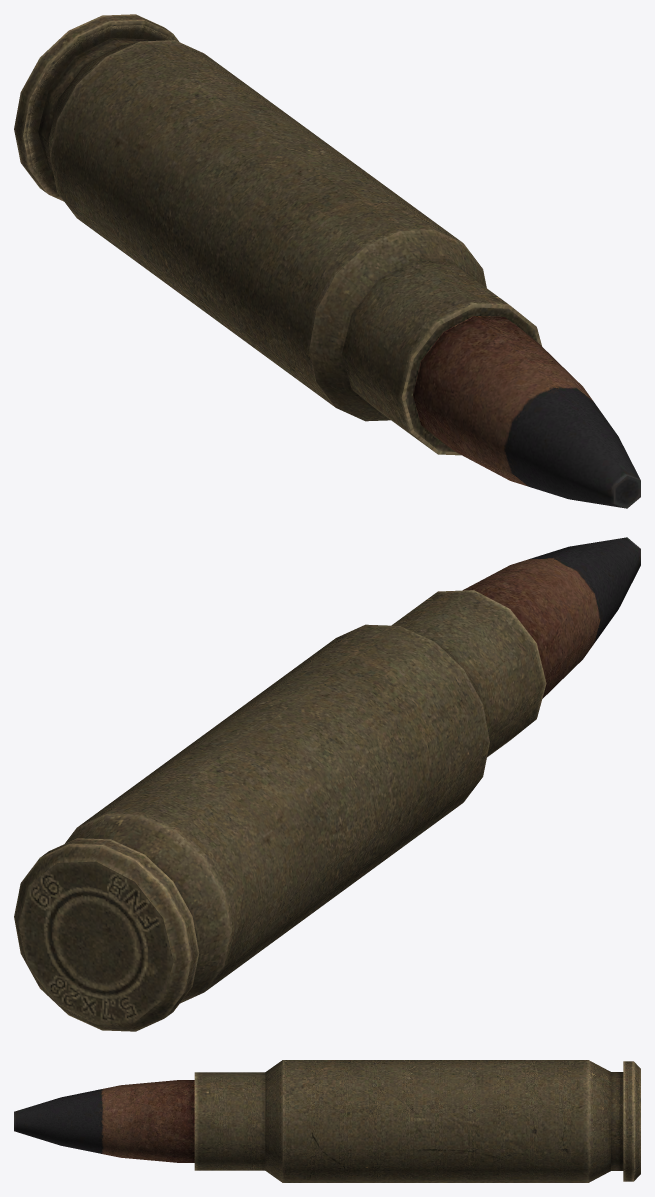
3 views of the same model, one above another, from view 1: azimuth 30°, elevation 25°; view 2: azimuth 150°, elevation 25°; view 3: azimuth 270°, elevation 25° (orthographic). The views are drawn at different scales.
Parts seen in each view (by area): view 1: patron_57x28_ss190_fulll_LOD0.003, patron_57x28_ss190_shell_LOD0.001; view 2: patron_57x28_ss190_fulll_LOD0.003, patron_57x28_ss190_shell_LOD0.001; view 3: patron_57x28_ss190_fulll_LOD0.003, patron_57x28_ss190_shell_LOD0.001.
Part boxes in pixels (box(x1,y1,x2,y2)): patron_57x28_ss190_fulll_LOD0.003: box(21, 14, 640, 508); patron_57x28_ss190_shell_LOD0.001: box(14, 21, 541, 455); patron_57x28_ss190_fulll_LOD0.003: box(14, 537, 640, 1031); patron_57x28_ss190_shell_LOD0.001: box(136, 642, 546, 1017); patron_57x28_ss190_fulll_LOD0.003: box(14, 1060, 640, 1182); patron_57x28_ss190_shell_LOD0.001: box(194, 1060, 633, 1182).
Size of the model in its own units: 0.7946 by 0.7946 by 4.05.
